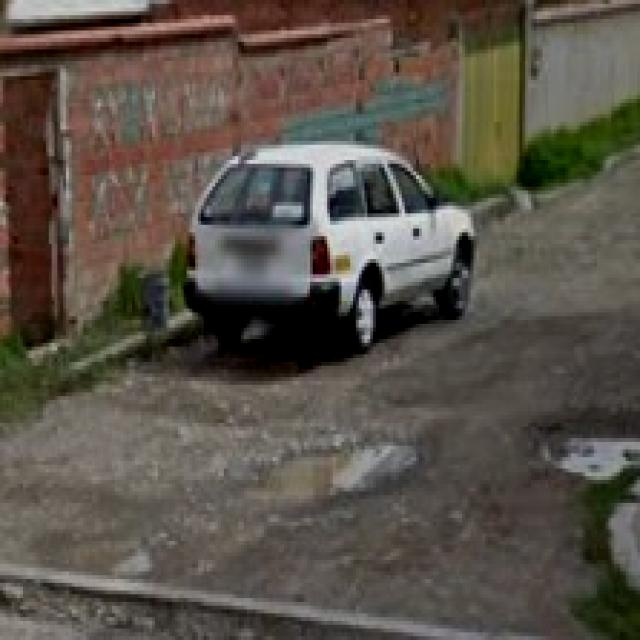car: (186, 137, 478, 348)
